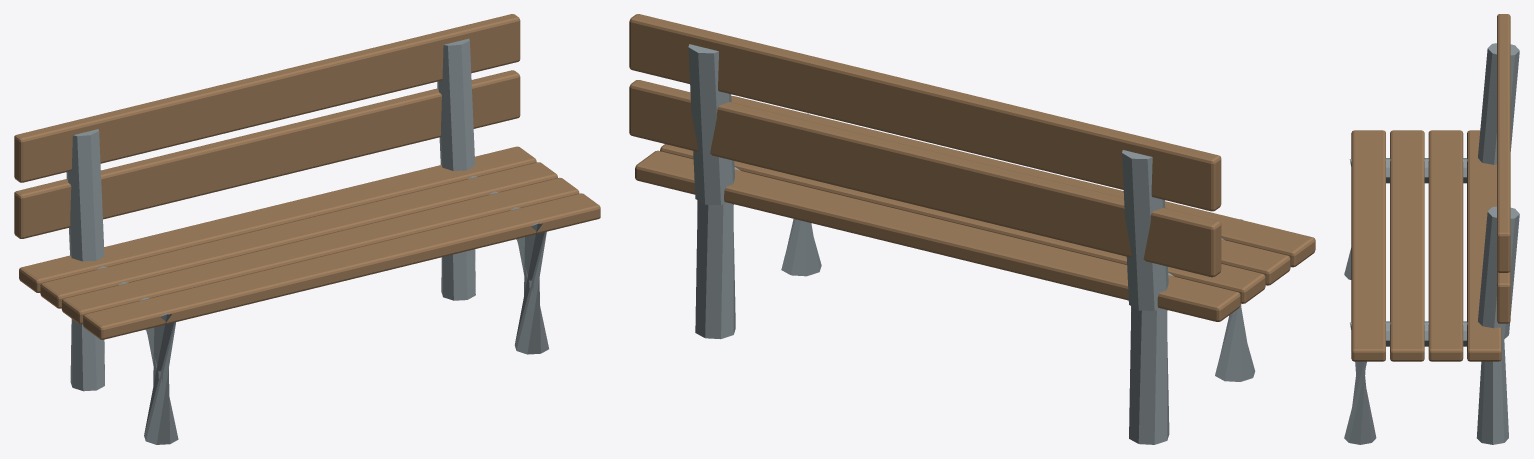
The model's file is AH03_Bench.fbx.
3 views of the same model, side by side, from view 1: azimuth 30°, elevation 25°; view 2: azimuth 150°, elevation 25°; view 3: azimuth 270°, elevation 25° (orthographic). The views are drawn at different scales.
Parts seen in each view (by area): view 1: AH03_Bench_AH03_Wood, AH03_Bench_AH03_Metal; view 2: AH03_Bench_AH03_Wood, AH03_Bench_AH03_Metal; view 3: AH03_Bench_AH03_Wood, AH03_Bench_AH03_Metal.
Boxes of the visible parts, x1,y1,x2,y2 form: AH03_Bench_AH03_Wood: [14, 14, 600, 339]; AH03_Bench_AH03_Metal: [66, 38, 548, 444]; AH03_Bench_AH03_Wood: [629, 14, 1315, 321]; AH03_Bench_AH03_Metal: [688, 44, 1255, 444]; AH03_Bench_AH03_Wood: [1351, 14, 1510, 361]; AH03_Bench_AH03_Metal: [1344, 43, 1519, 444].
Bounding box in the file's own units: 210 × 103 × 70.64.
